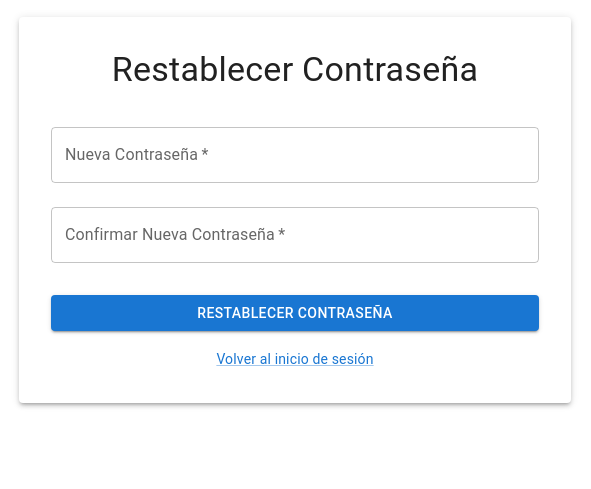
Test case: ResetPassword Component › handles password reset failure
Type "NewPassword123" into the password field labelled "Nueva Contraseña *" at (295, 155), box [51,127,539,183]
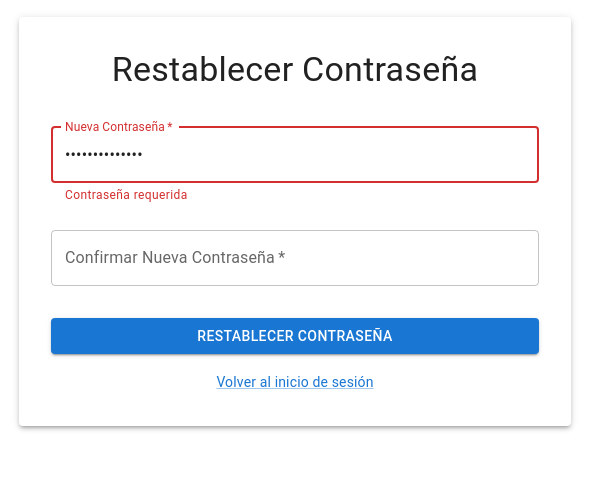
Type "NewPassword123" into the password field labelled "Confirmar Nueva Contraseña *" at (295, 258), box [51,230,539,286]
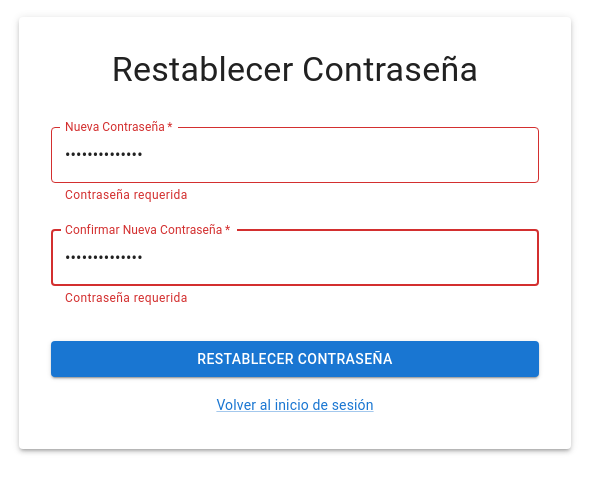
Click the button "Restablecer Contraseña" at (295, 359), box [51,341,539,377]
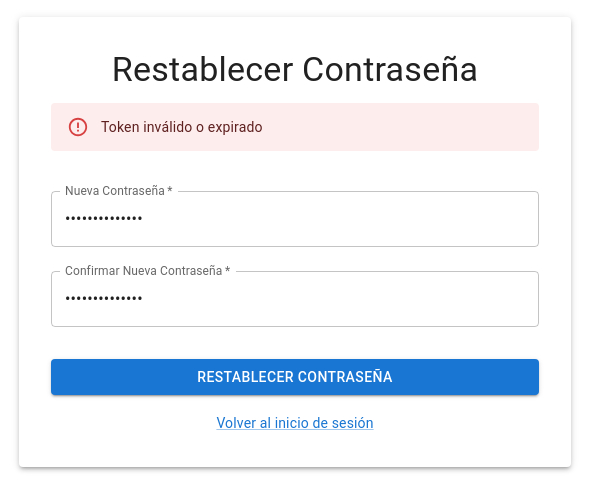
Check: the message reads "Token inválido o expirado", box [101,119,263,135]
